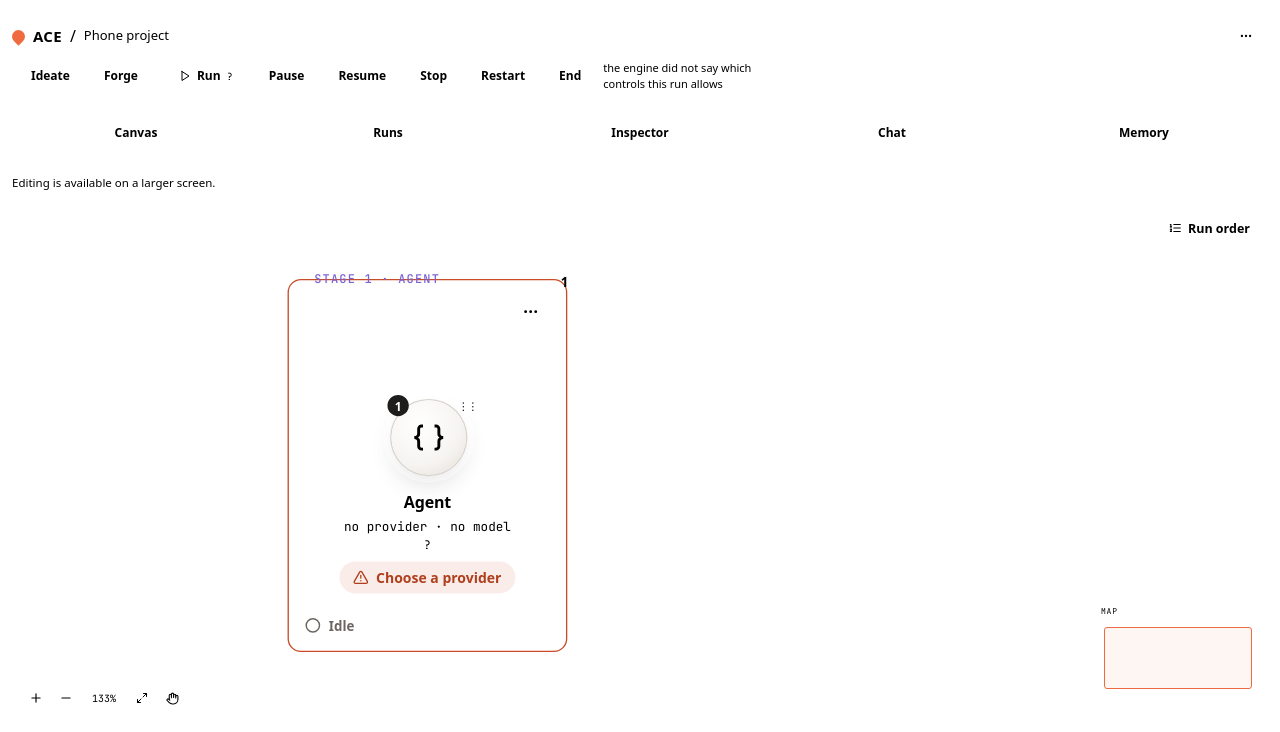
Test: FR-MOB-001 / FR-MOB-003 the Canvas screen at phone width › switches to the runs tab
The width and height of the screenshot is (1280, 732).
Click the tab "Runs".
click(388, 133)  # box [263,111,513,155]
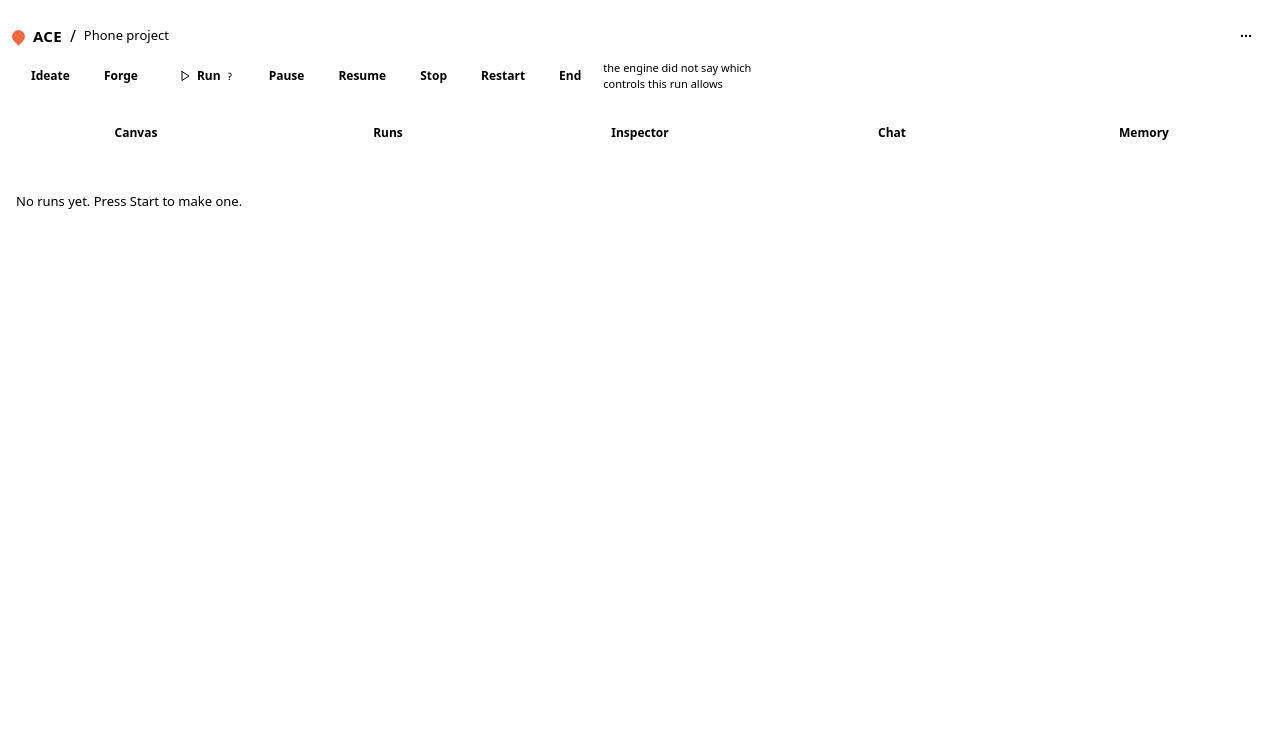
expect the text "No runs yet. Press Start to make one." is shown: met, box [16,192,242,210]
